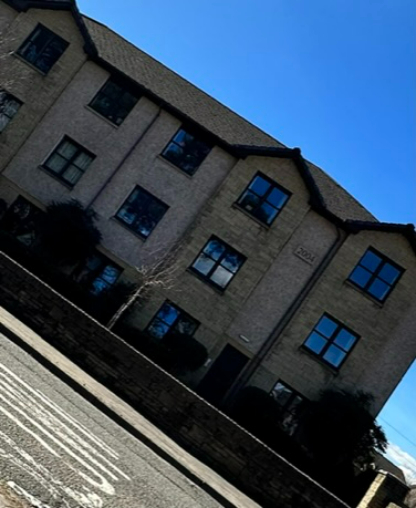tree: (98, 234, 197, 323)
